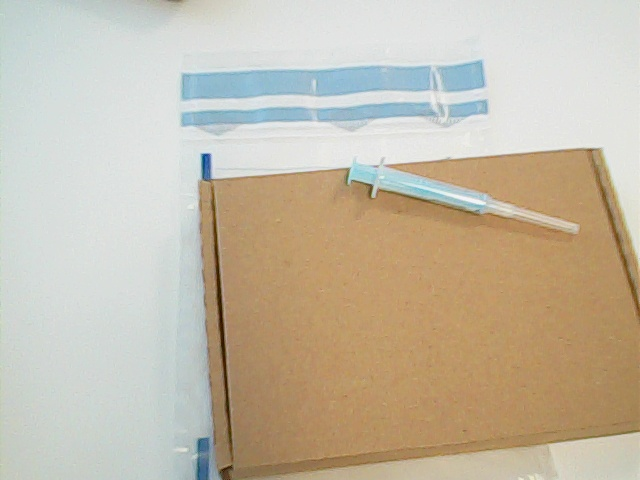syringe: (342, 149, 586, 238)
